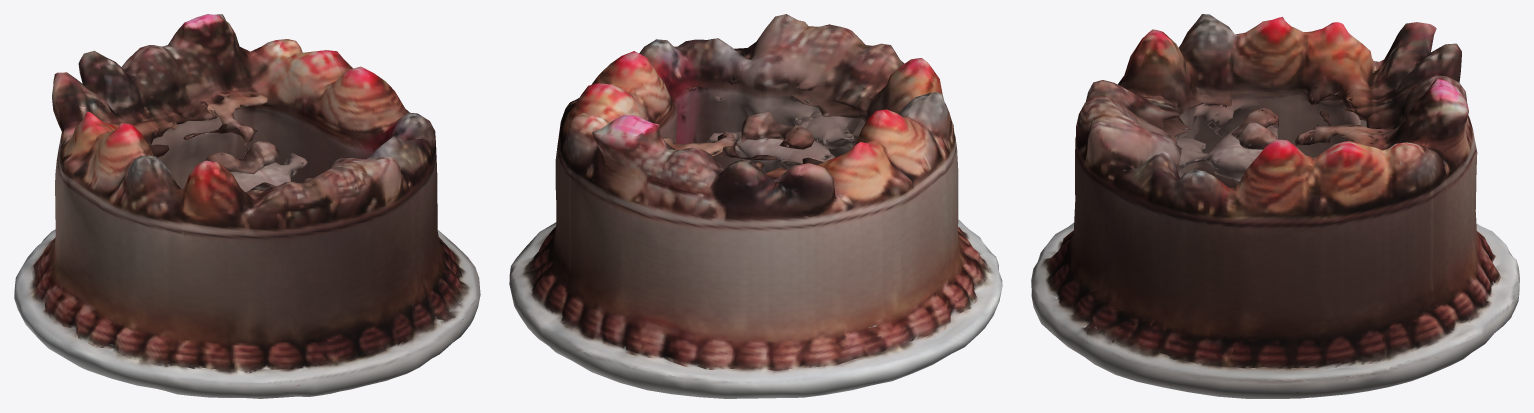
The model's file is image1.glb.
3 renders of one model, left to right at view 1: azimuth 30°, elevation 25°; view 2: azimuth 150°, elevation 25°; view 3: azimuth 270°, elevation 25°, orthographic. The views are drawn at different scales.
Parts seen in each view (by area): view 1: mesh; view 2: mesh; view 3: mesh.
Part boxes in pixels (x1=…): mesh: x1=14, y1=14, x2=480, y2=398; mesh: x1=509, y1=14, x2=1002, y2=398; mesh: x1=1031, y1=14, x2=1519, y2=398.
Size of the model in its own units: 1.82 by 1.05 by 1.82.
Materials: 1 (1 with a texture image).
